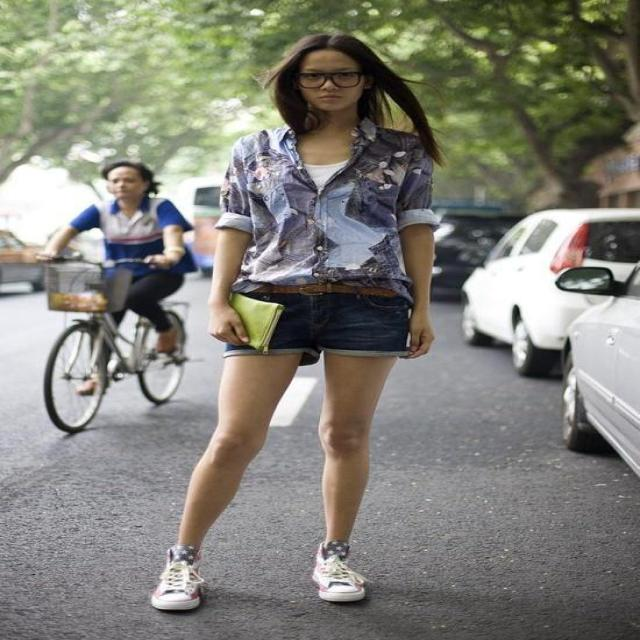shirt: (218, 120, 442, 294)
short: (220, 282, 415, 367)
